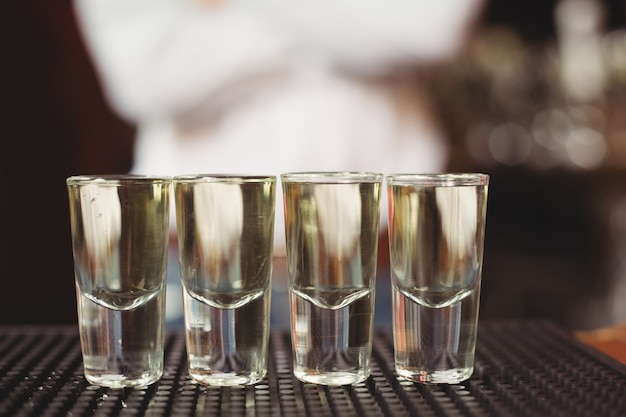alcohol: (64, 174, 173, 391), (168, 174, 278, 386), (382, 174, 492, 384), (281, 172, 384, 384)
